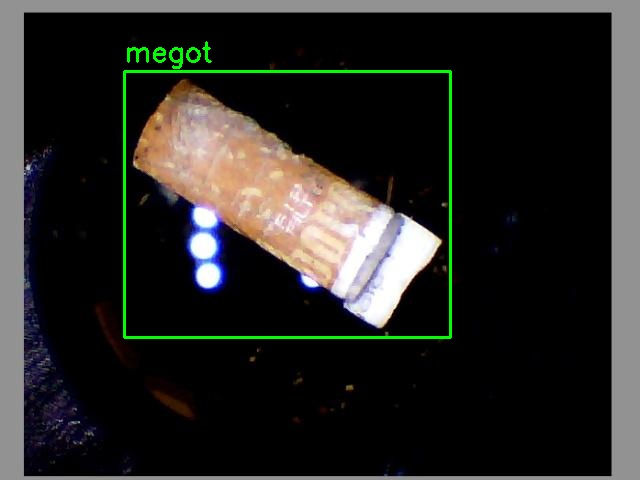megot: (124, 71, 450, 337)
